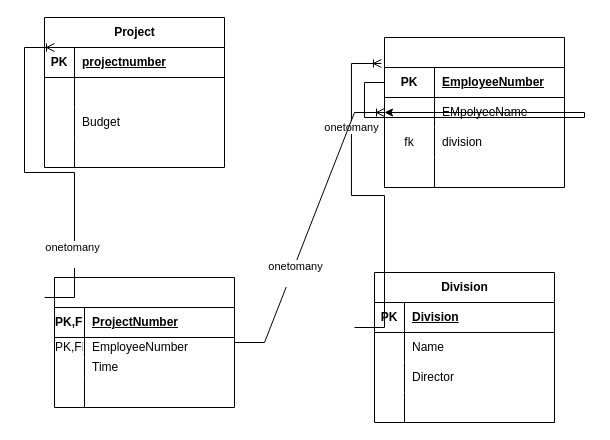
Image size: 610x440. Some labels were removed from this diagram. Here are the shapes that lost their labels. From the top down, the box of each, then its label:
(384, 36, 564, 188): Employees
(54, 276, 234, 408): ProjectEmployee
